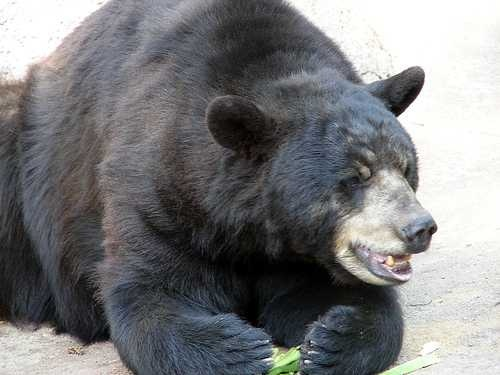bear: (310, 149, 438, 277), (187, 75, 315, 203), (323, 46, 451, 174)
